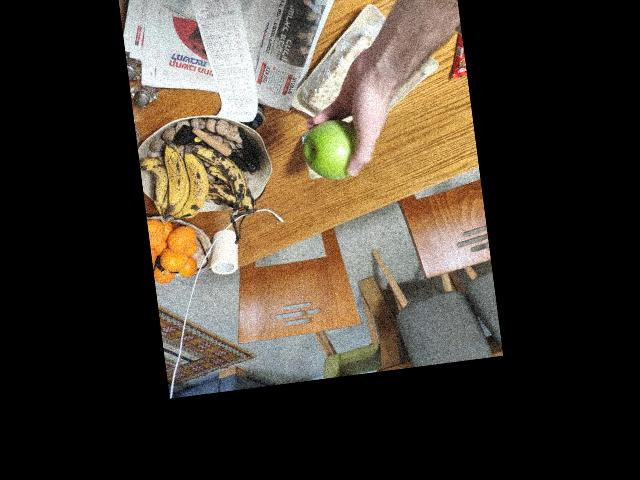apple: (298, 110, 372, 190)
